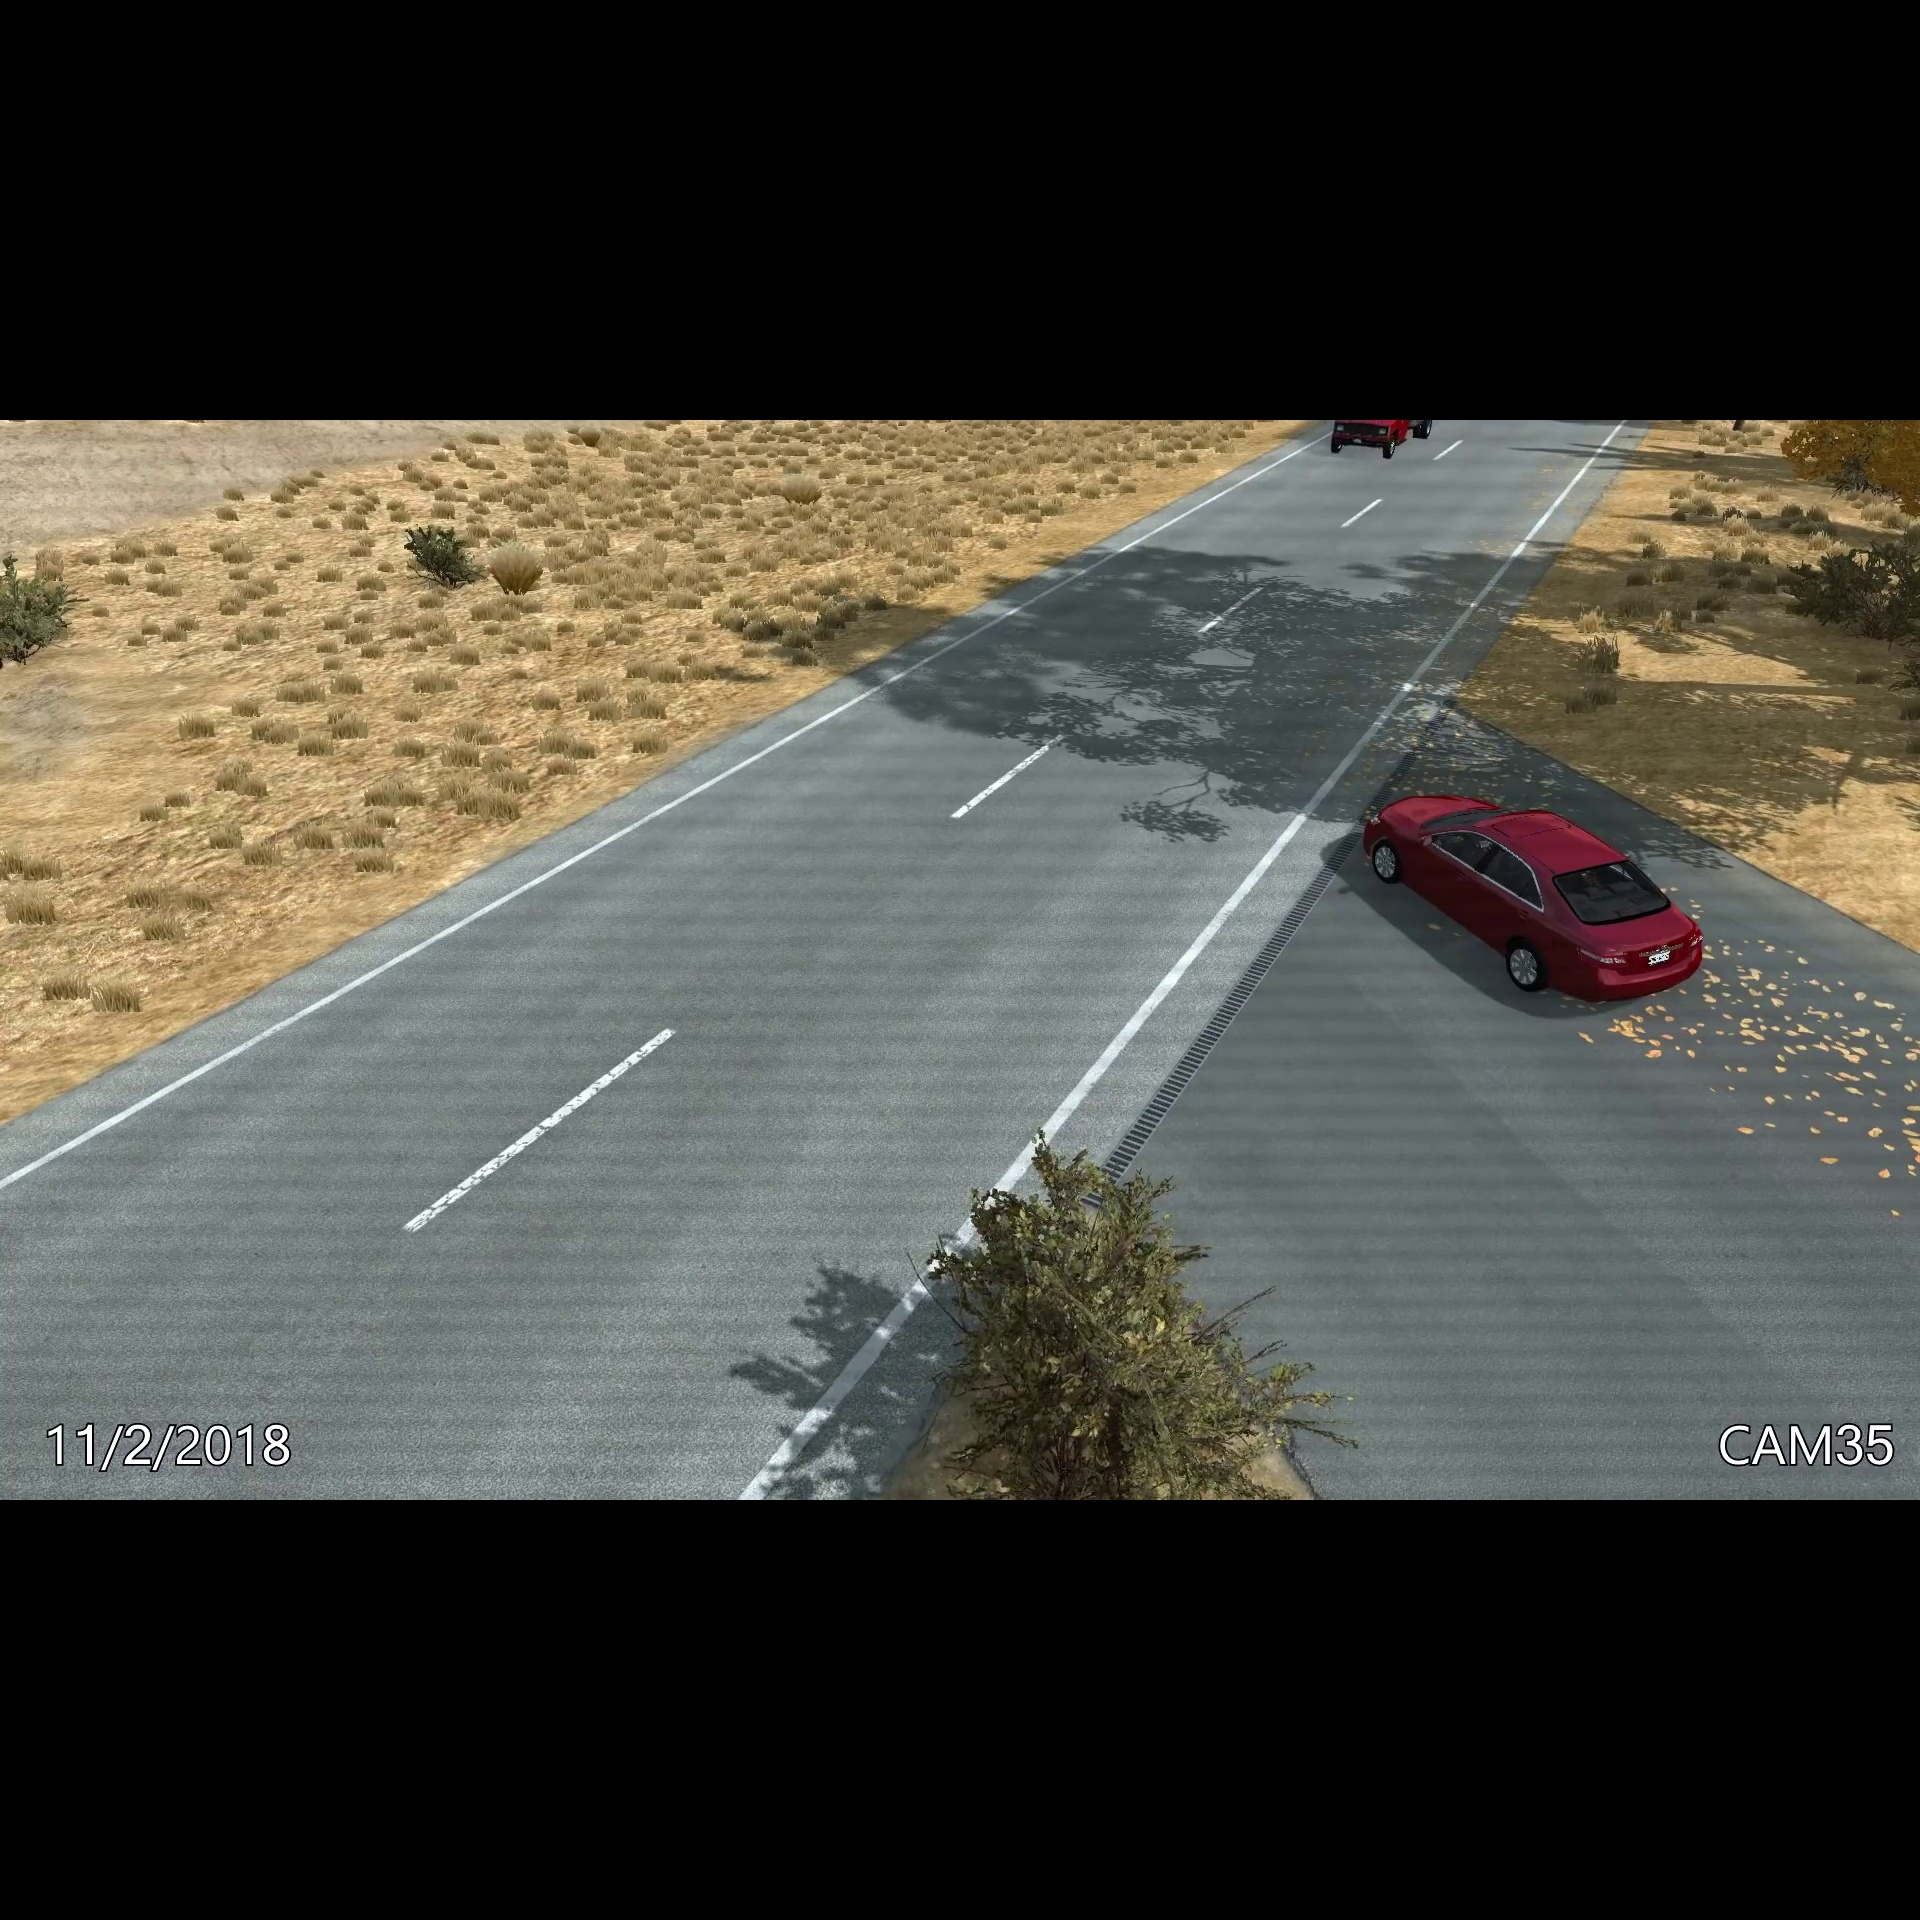vehicle: (1357, 777, 1713, 1020), (1319, 418, 1449, 462)
